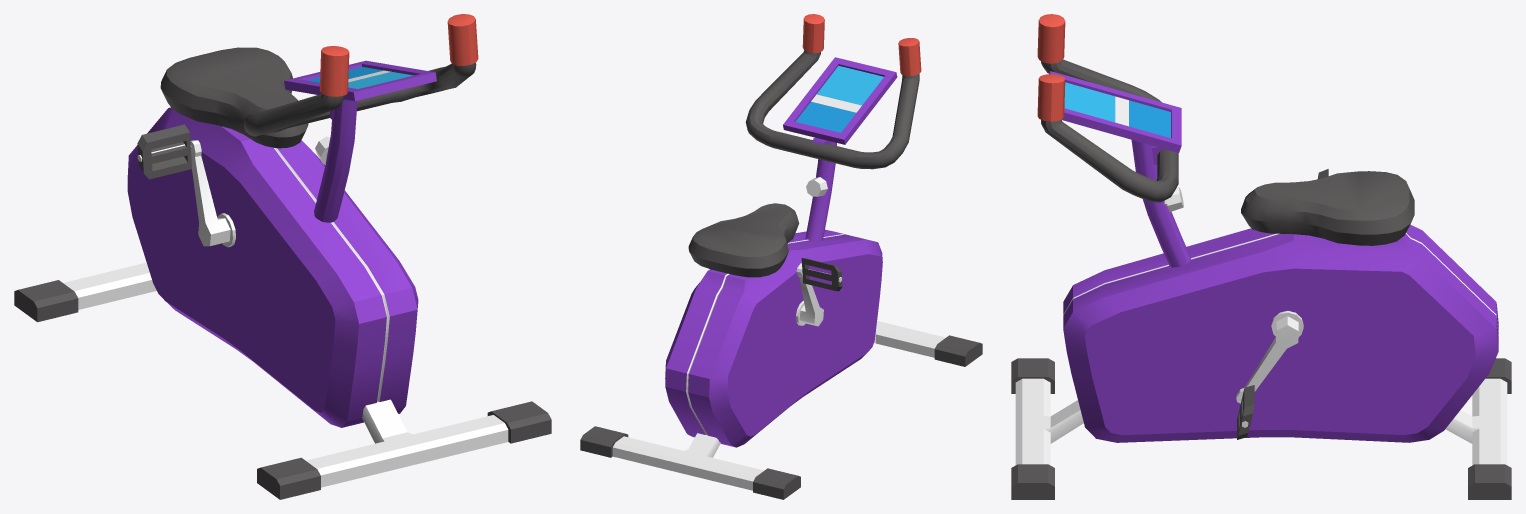
File: Mchn_2.fbx
The picture shows the model from 3 angles, left to right: view 1: azimuth 30°, elevation 25°; view 2: azimuth 150°, elevation 25°; view 3: azimuth 270°, elevation 25°; orthographic projection. The views are drawn at different scales.
Parts seen in each view (by area): view 1: Machn_2, Wheel; view 2: Machn_2, Wheel; view 3: Machn_2, Wheel.
Part boxes in pixels (x1,y1,x2,y2): Machn_2: (14,14,551,499); Wheel: (137,124,235,247); Machn_2: (580,14,982,499); Wheel: (796,258,842,326); Machn_2: (1011,14,1511,499); Wheel: (1236,169,1328,439).
Bounding box in the file's own units: 89.04 × 130 × 151.
